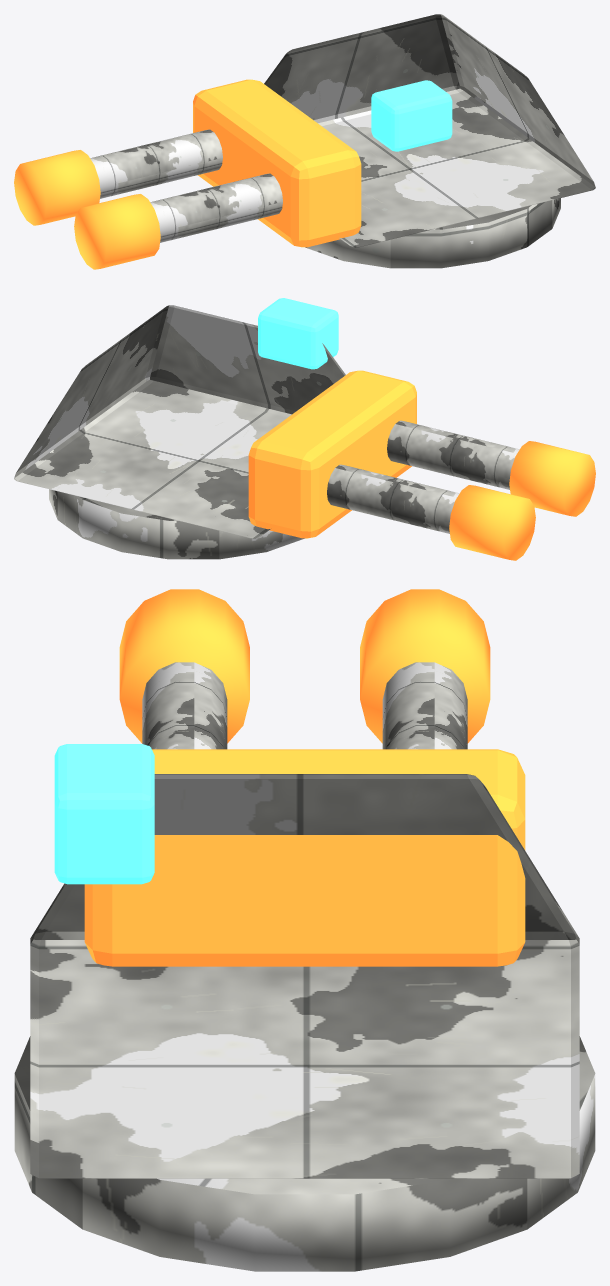
File: flame_tank_turret.glb
The picture shows the model from 3 angles, top to bottom: view 1: azimuth 30°, elevation 25°; view 2: azimuth 150°, elevation 25°; view 3: azimuth 270°, elevation 25°; orthographic projection. The views are drawn at different scales.
Parts seen in each view (by area): view 1: flame_tank_turret_team_primary, flame_tank_turret_warning_emissive, flame_tank_turret_team_accent, flame_tank_turret_glass_emissive; view 2: flame_tank_turret_team_primary, flame_tank_turret_warning_emissive, flame_tank_turret_team_accent, flame_tank_turret_glass_emissive; view 3: flame_tank_turret_team_primary, flame_tank_turret_warning_emissive, flame_tank_turret_team_accent, flame_tank_turret_glass_emissive.
Boxes of the visible parts, bbox=[...] form: flame_tank_turret_team_primary: bbox=[264, 14, 595, 247]; flame_tank_turret_warning_emissive: bbox=[14, 79, 361, 269]; flame_tank_turret_team_accent: bbox=[90, 129, 560, 268]; flame_tank_turret_glass_emissive: bbox=[371, 80, 452, 151]; flame_tank_turret_team_primary: bbox=[14, 305, 345, 538]; flame_tank_turret_warning_emissive: bbox=[248, 370, 595, 560]; flame_tank_turret_team_accent: bbox=[49, 420, 519, 559]; flame_tank_turret_glass_emissive: bbox=[258, 298, 338, 369]; flame_tank_turret_team_primary: bbox=[30, 774, 579, 1178]; flame_tank_turret_warning_emissive: bbox=[84, 589, 525, 966]; flame_tank_turret_team_accent: bbox=[14, 662, 595, 1271]; flame_tank_turret_glass_emissive: bbox=[54, 744, 154, 884].
Bounding box in the file's own units: 2.16 × 0.7073 × 1.13.
Materials: 4 (2 with a texture image).
